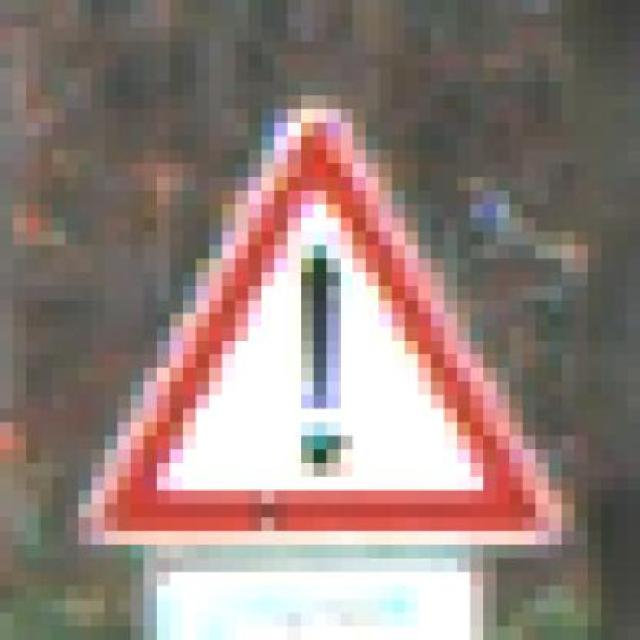Attention Please-: (52, 95, 576, 572)
